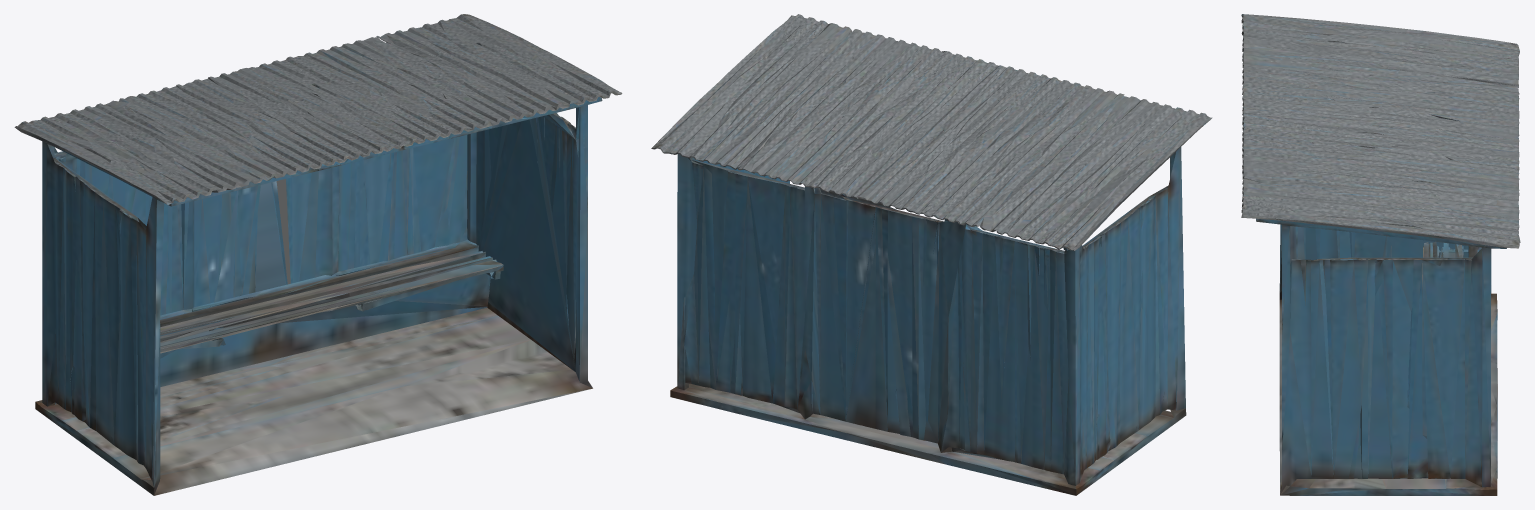
File: Soviet_Bus_Stop_Shelt.glb
The picture shows the model from 3 angles, left to right: view 1: azimuth 30°, elevation 25°; view 2: azimuth 150°, elevation 25°; view 3: azimuth 270°, elevation 25°; orthographic projection. The views are drawn at different scales.
Parts seen in each view (by area): view 1: output_unwrapped; view 2: output_unwrapped; view 3: output_unwrapped.
Part boxes in pixels (bbox=[...]): output_unwrapped: bbox=[14, 14, 622, 495]; output_unwrapped: bbox=[651, 14, 1212, 495]; output_unwrapped: bbox=[1241, 14, 1520, 495].
Bounding box in the file's own units: 4.8 × 3.13 × 2.77.
Materials: 1 (1 with a texture image).
